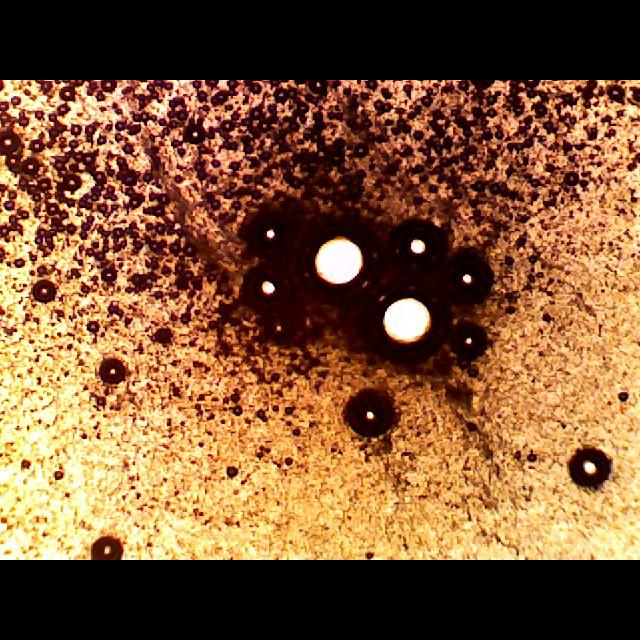microbeads: (390, 221, 450, 277), (436, 250, 496, 302), (342, 386, 403, 436), (242, 212, 294, 262), (238, 262, 292, 308), (448, 321, 492, 359)
